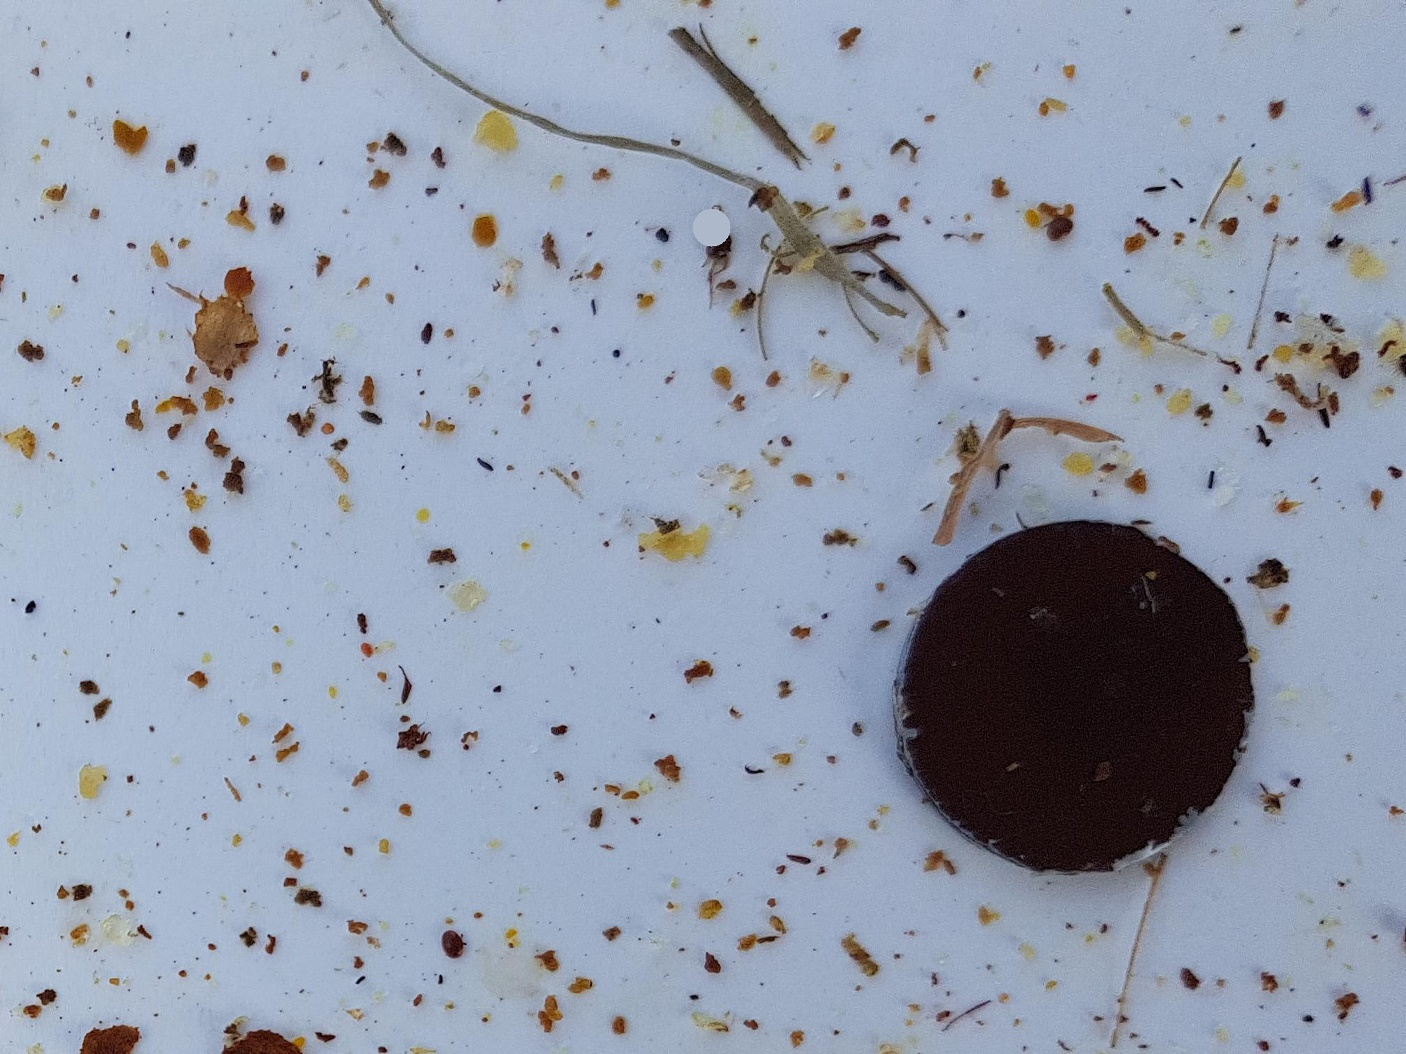Varroa: (1041, 214, 1078, 254), (700, 230, 737, 269), (438, 922, 472, 958)
